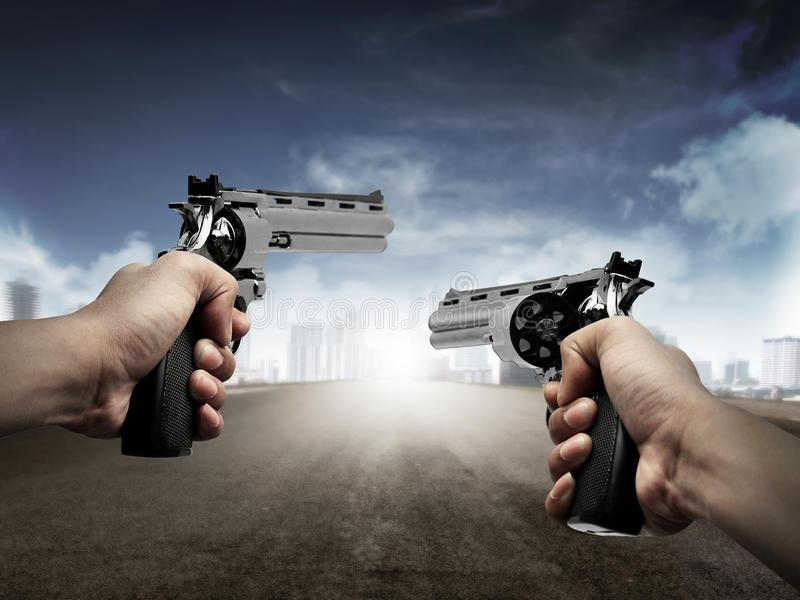weapon: (118, 169, 398, 462), (425, 248, 659, 539)
